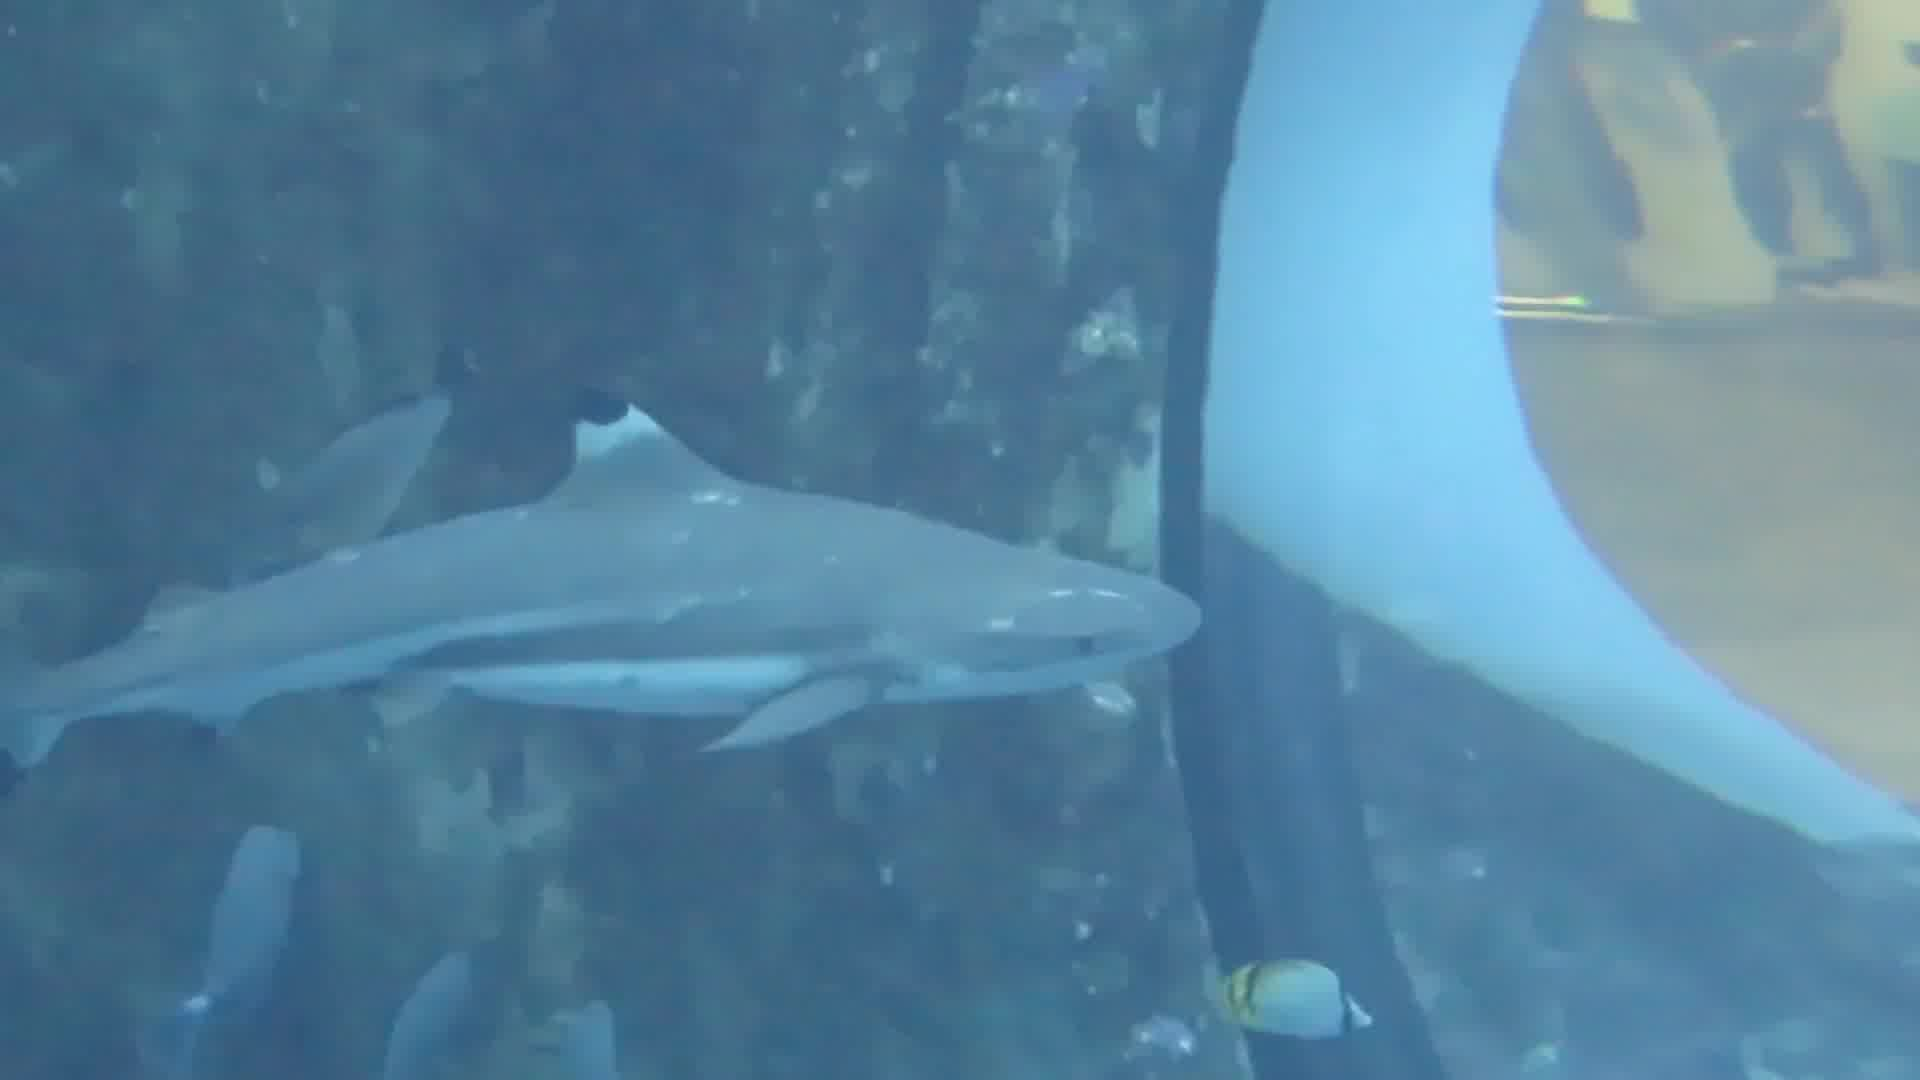Carcharhinus melanopterus: (1, 349, 1232, 851)
